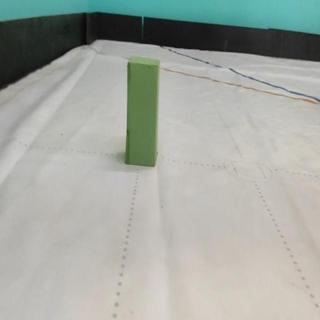greenbox: (123, 55, 163, 170)
